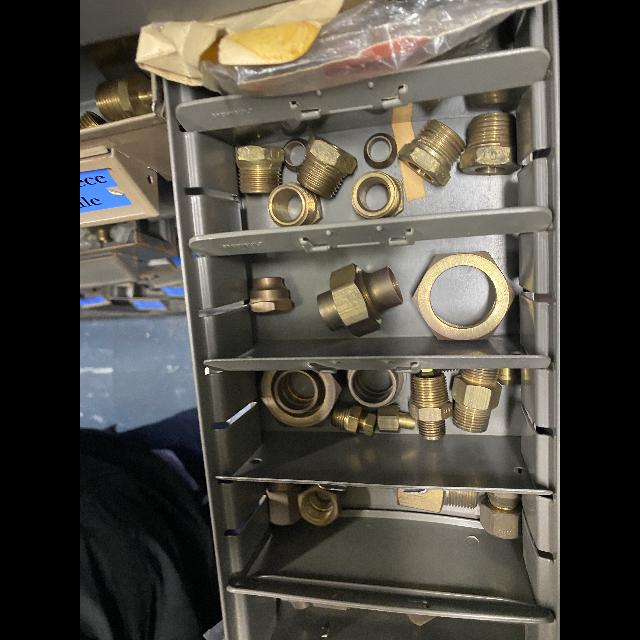Brass: (412, 252, 516, 340), (317, 263, 403, 337), (259, 371, 344, 428), (399, 120, 463, 187), (430, 266, 496, 327), (296, 135, 357, 199), (459, 111, 518, 175), (451, 369, 501, 433), (408, 369, 452, 440), (351, 172, 403, 220), (267, 183, 322, 227), (235, 145, 284, 194), (347, 370, 405, 408), (397, 488, 479, 513), (480, 493, 521, 539), (297, 485, 341, 525), (250, 276, 293, 314), (266, 483, 302, 525), (331, 405, 377, 436), (363, 133, 396, 170), (377, 405, 415, 432), (283, 138, 307, 172), (497, 368, 517, 386)
